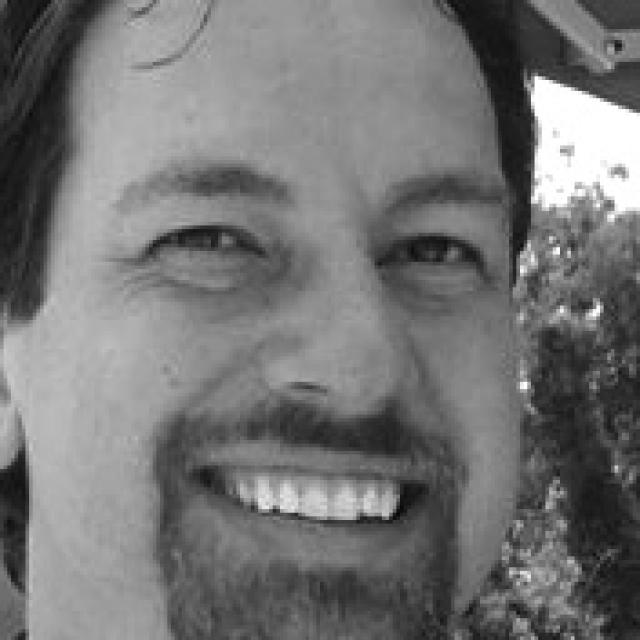Normal: (20, 5, 523, 636)
